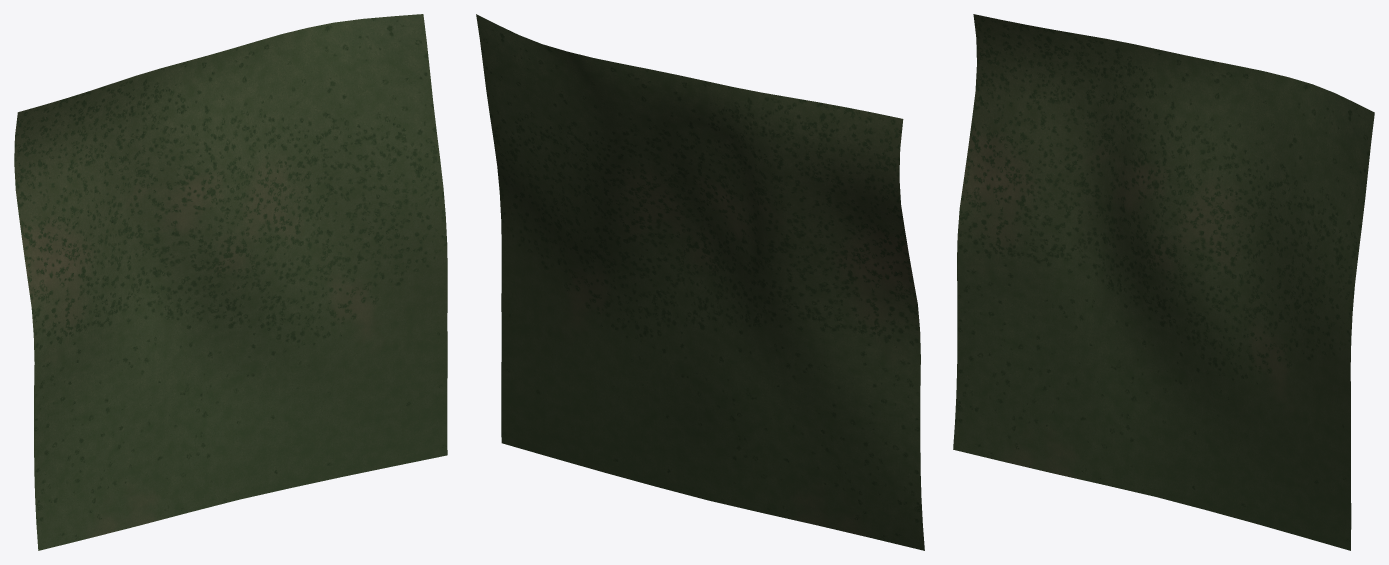
File: terrain_mid_05_00.obj
The picture shows the model from 3 angles, left to right: view 1: azimuth 30°, elevation 25°; view 2: azimuth 150°, elevation 25°; view 3: azimuth 330°, elevation 25°; orthographic projection. The views are drawn at different scales.
Visible parts, largest first — view 1: terrain_mid_05_00; view 2: terrain_mid_05_00; view 3: terrain_mid_05_00.
Part boxes in pixels (x1,y1,x2,y2): terrain_mid_05_00: (14, 14, 447, 550); terrain_mid_05_00: (476, 14, 924, 550); terrain_mid_05_00: (953, 14, 1374, 550).
Size of the model in its own units: 320 by 320 by 53.53.
1 material, 1 textured.
